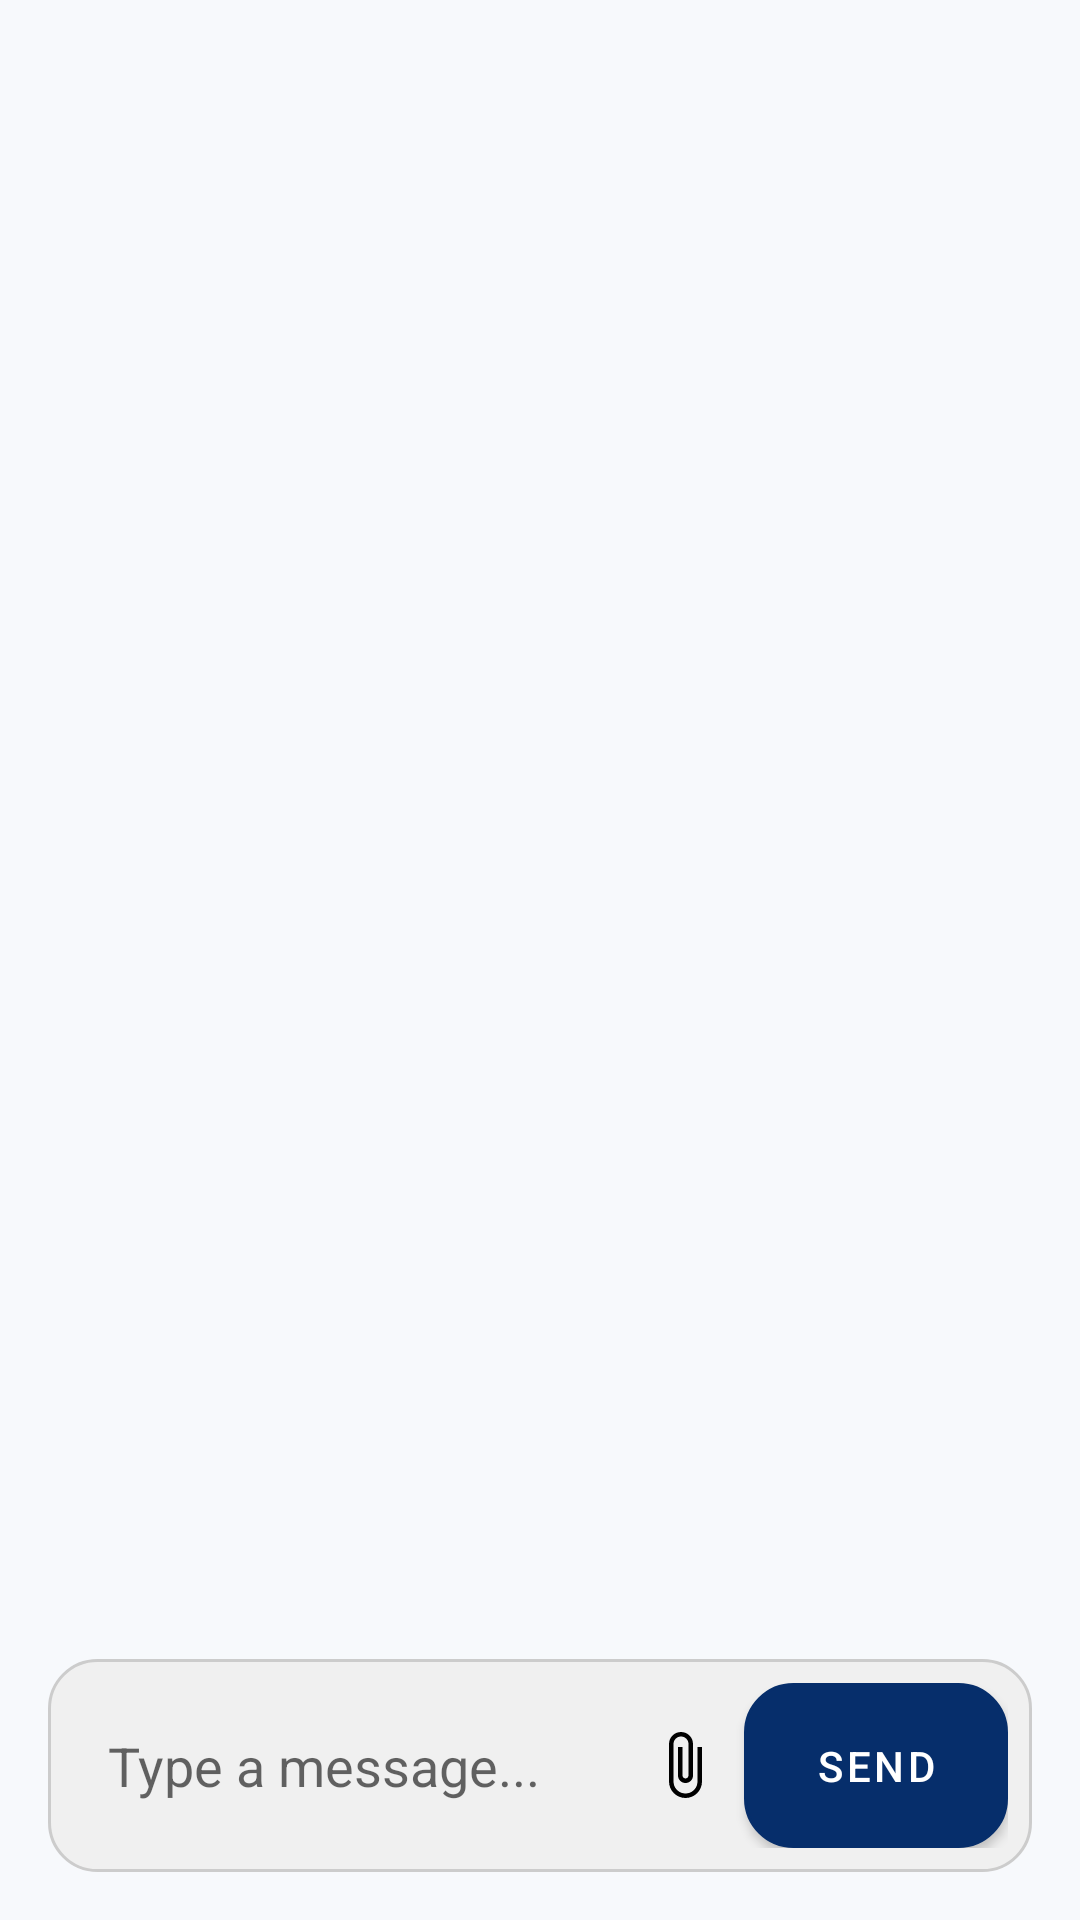

Icons on this 1080px x 1920px Android screen, each with the point to tap as [x,y]:
Attach: [685,1765]
